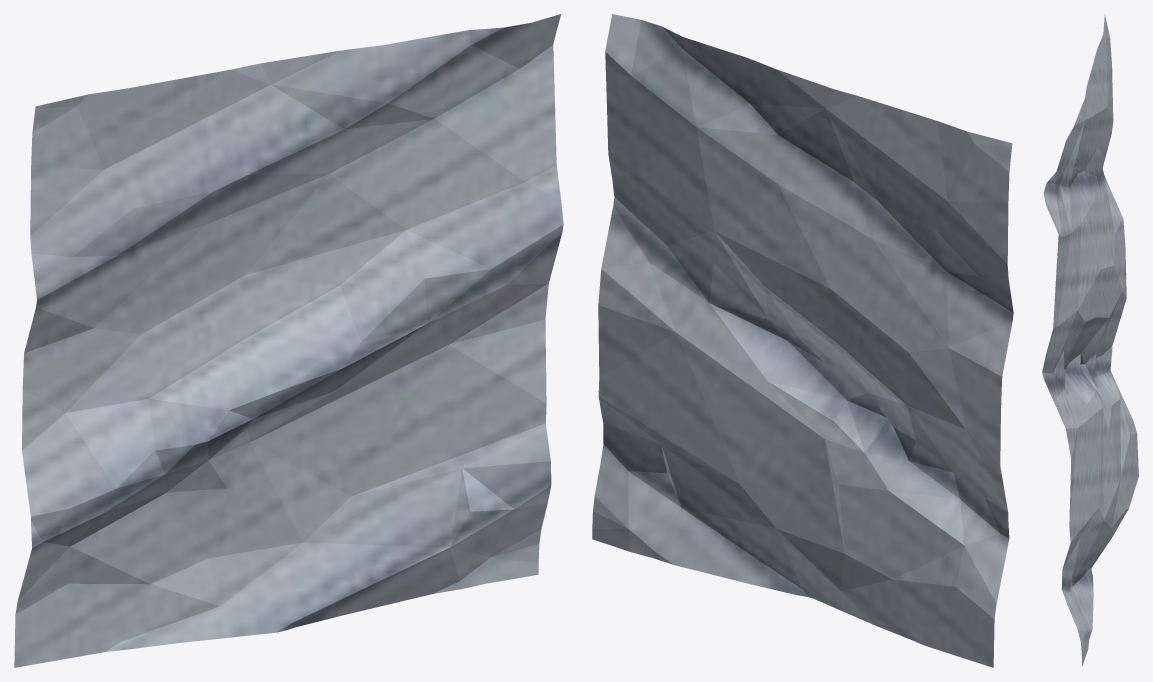
The model's file is Tile_+003_+008_L24_0033223.obj.
3 renders of one model, left to right at view 1: azimuth 30°, elevation 25°; view 2: azimuth 150°, elevation 25°; view 3: azimuth 270°, elevation 25°, orthographic. The views are drawn at different scales.
Size of the model in its own units: 0.9531 by 1.08 by 0.2039.
1 material, 1 textured.
